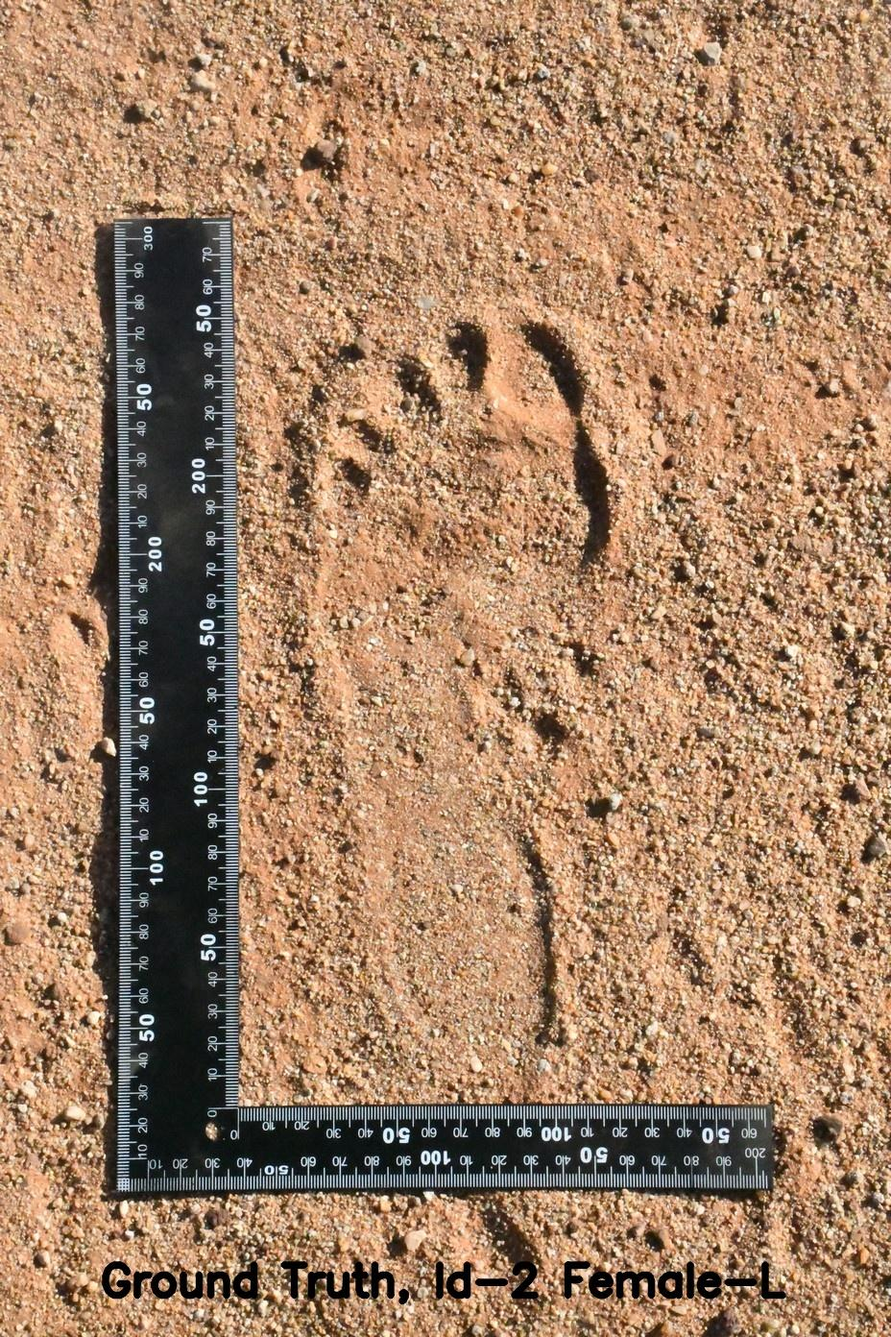human_footprint: (259, 263, 657, 1095)
